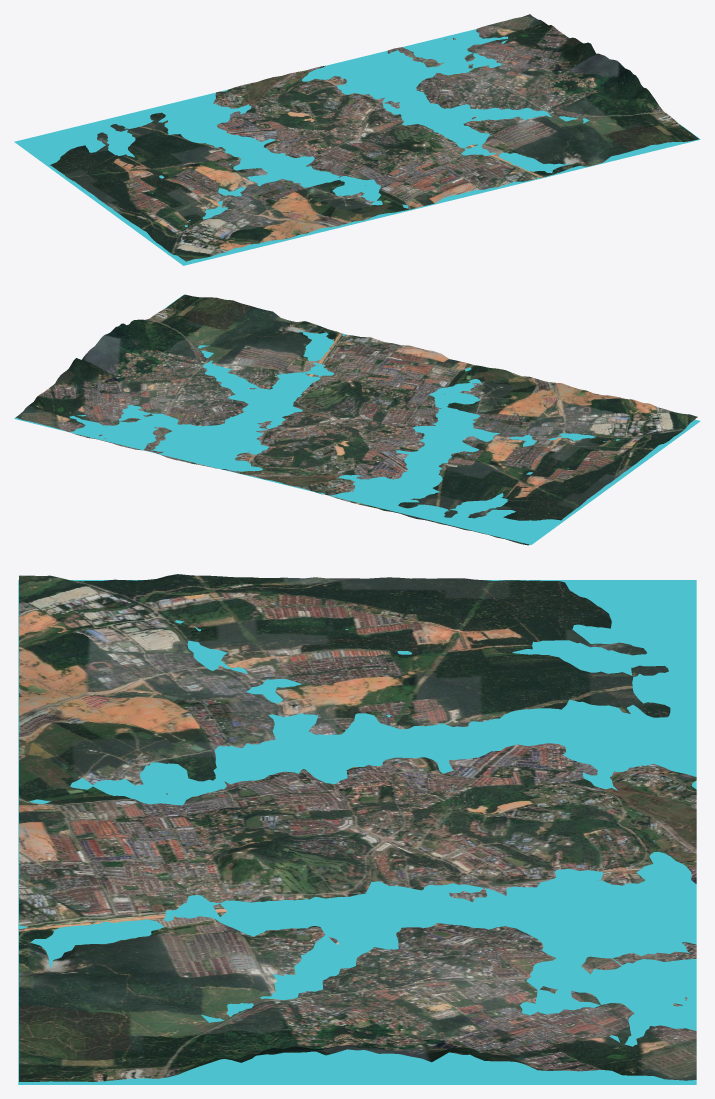
File: 柔佛洪灾.glb
The picture shows the model from 3 angles, top to bottom: view 1: azimuth 30°, elevation 25°; view 2: azimuth 150°, elevation 25°; view 3: azimuth 270°, elevation 25°; orthographic projection. The views are drawn at different scales.
Visible parts, largest first — view 1: EXPORT_GOOGLE_SAT_WM, Plane; view 2: EXPORT_GOOGLE_SAT_WM, Plane; view 3: EXPORT_GOOGLE_SAT_WM, Plane.
Boxes of the visible parts, left/top/right/bottom form: EXPORT_GOOGLE_SAT_WM: left=50, top=14, right=698, bottom=261; Plane: left=14, top=29, right=700, bottom=265; EXPORT_GOOGLE_SAT_WM: left=15, top=294, right=697, bottom=545; Plane: left=14, top=295, right=700, bottom=544; EXPORT_GOOGLE_SAT_WM: left=19, top=574, right=696, bottom=1081; Plane: left=18, top=580, right=696, bottom=1084.
Bounding box in the file's own units: 8629 × 339 × 4896.
2 materials, 1 textured.
